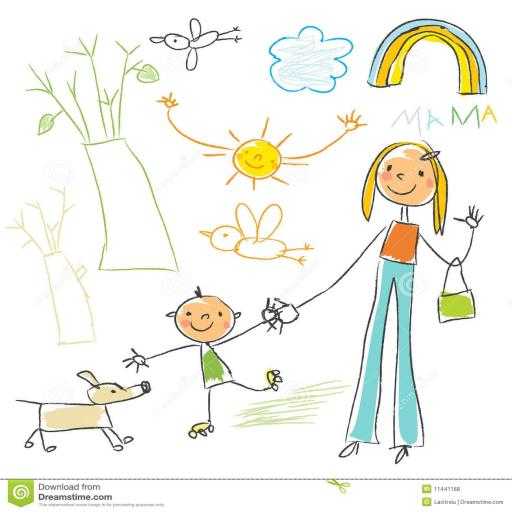person: (319, 138, 486, 470), (151, 284, 277, 440)
